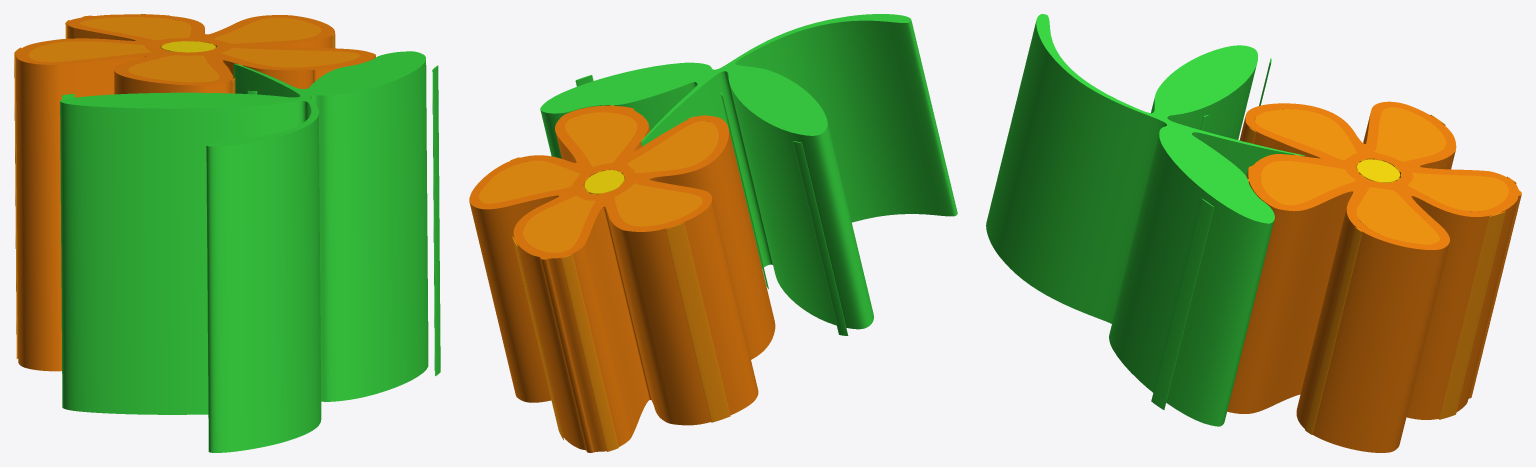
The model's file is _lower (1).fbx.
3 renders of one model, left to right at view 1: azimuth 30°, elevation 25°; view 2: azimuth 150°, elevation 25°; view 3: azimuth 270°, elevation 25°, orthographic. The views are drawn at different scales.
Visible parts, largest first — view 1: path112, path114, path116, path120; view 2: path114, path112, path116, path120; view 3: path112, path114, path116, path120.
Boxes of the visible parts, x1,y1,x2,y2 form: path112: (60,51,440,452); path114: (15,14,375,371); path116: (14,14,360,358); path120: (161,41,215,52); path114: (469,105,775,452); path112: (540,14,957,335); path116: (479,105,730,451); path120: (584,170,624,194); path112: (986,14,1304,426); path114: (1227,101,1521,452); path116: (1245,107,1516,434); path120: (1356,159,1399,182).
Bounding box in the file's own units: 20.57 × 20.64 × 30.84.
